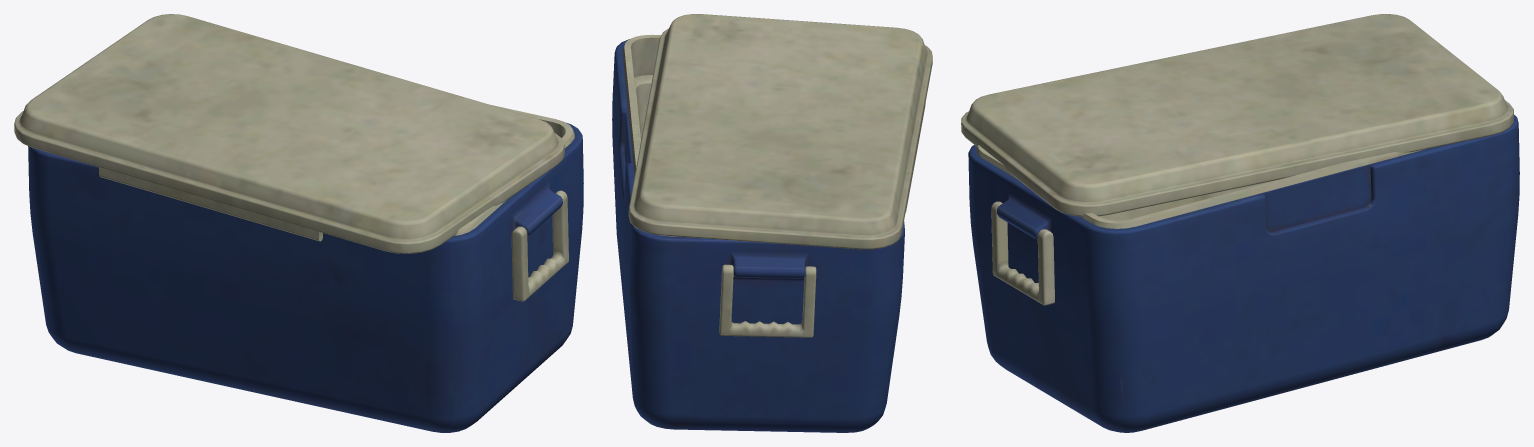
File: ItemSpot.fbx
The picture shows the model from 3 angles, left to right: view 1: azimuth 30°, elevation 25°; view 2: azimuth 150°, elevation 25°; view 3: azimuth 270°, elevation 25°; orthographic projection. The views are drawn at different scales.
Visible parts, largest first — view 1: ItemBox_IceBox; view 2: ItemBox_IceBox; view 3: ItemBox_IceBox.
Boxes of the visible parts, x1,y1,x2,y2 form: ItemBox_IceBox: (14, 14, 583, 432); ItemBox_IceBox: (612, 14, 932, 432); ItemBox_IceBox: (961, 14, 1519, 432).
Size of the model in its own units: 0.9642 by 0.5422 by 1.1.
1 material, 1 textured.
